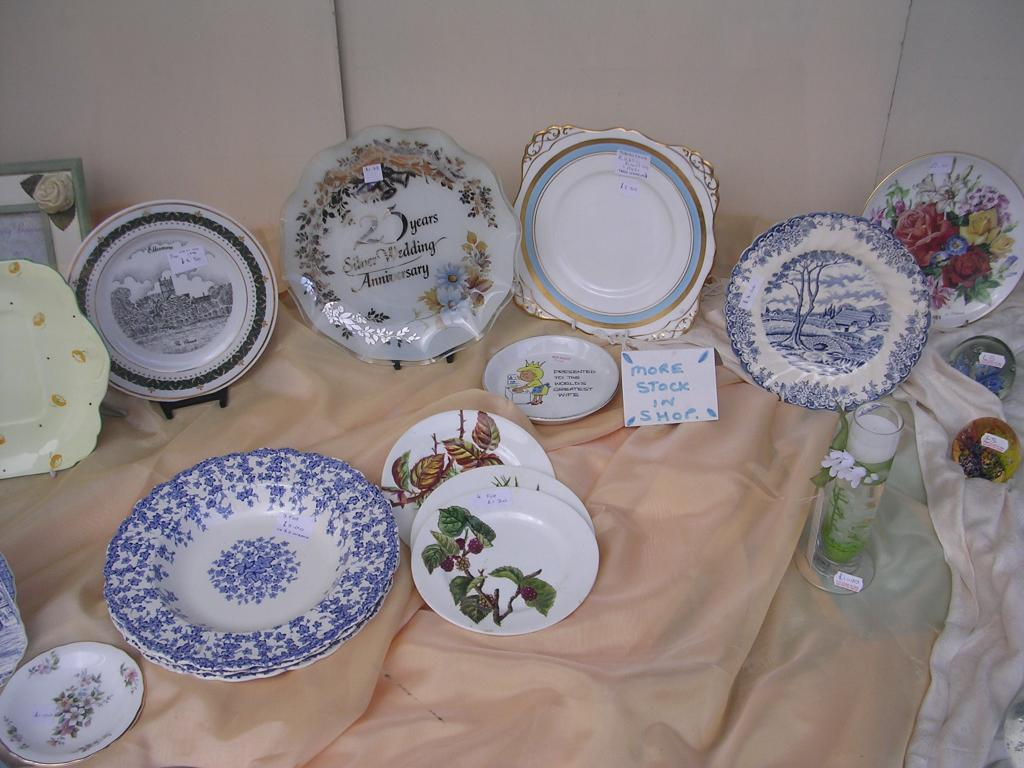plate: (101, 447, 401, 668), (272, 126, 524, 366), (405, 483, 603, 635)
